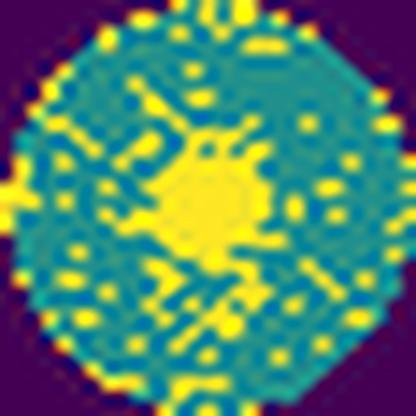Center: (103, 68, 291, 350)
